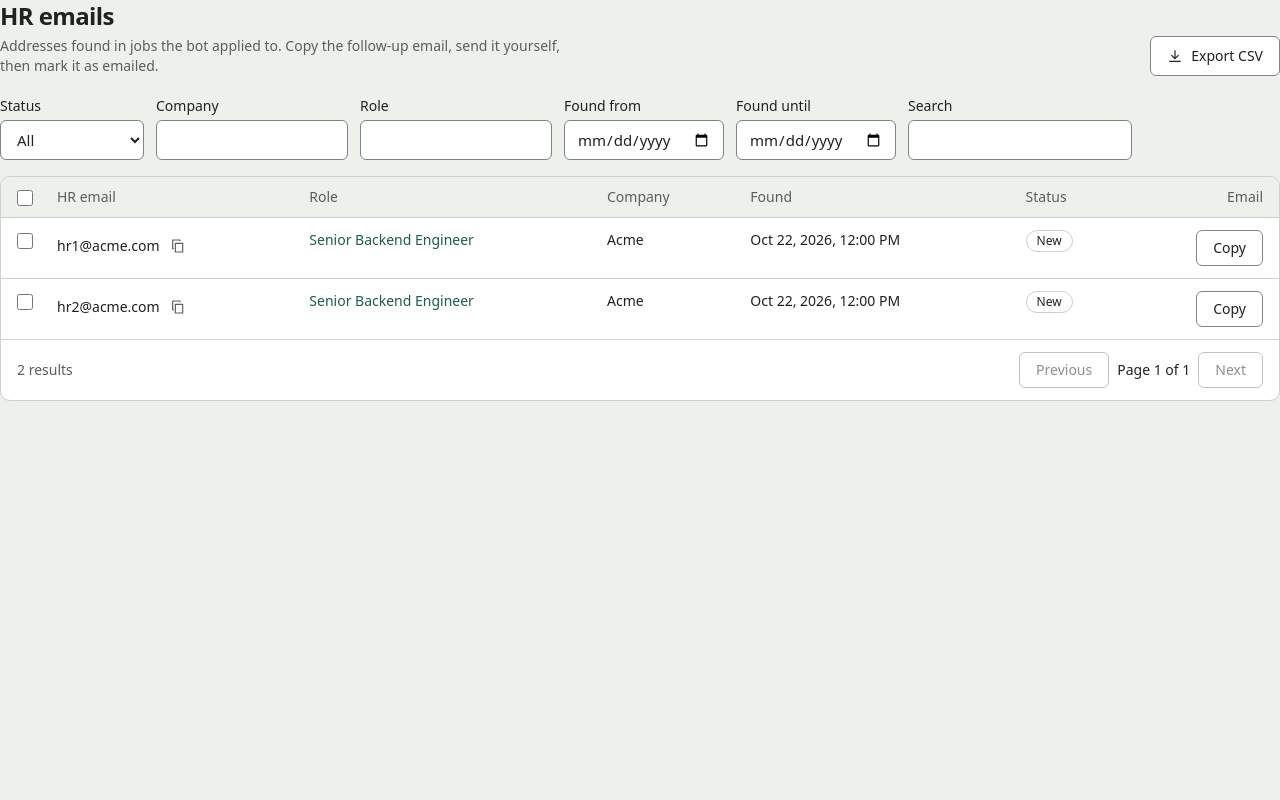
Scenario: select all on the page, then cancel the delete
Click the checkbox named "Select all on this page": coordinates (25, 198) [17,190,33,206]
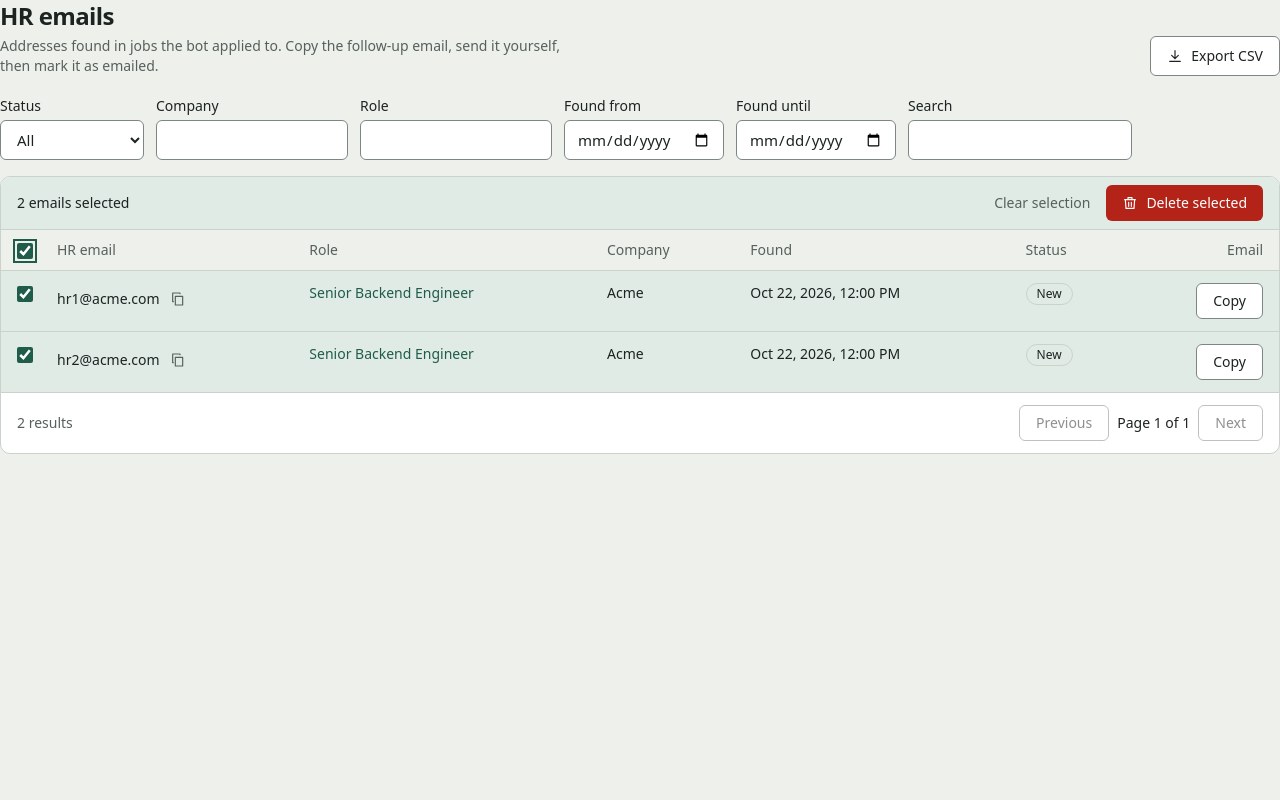
Expected: the element named "Selected rows" shows "2 emails selected", [1,177,1279,230]
Click the button "Delete selected": coordinates (1185, 203) [1106,185,1263,221]
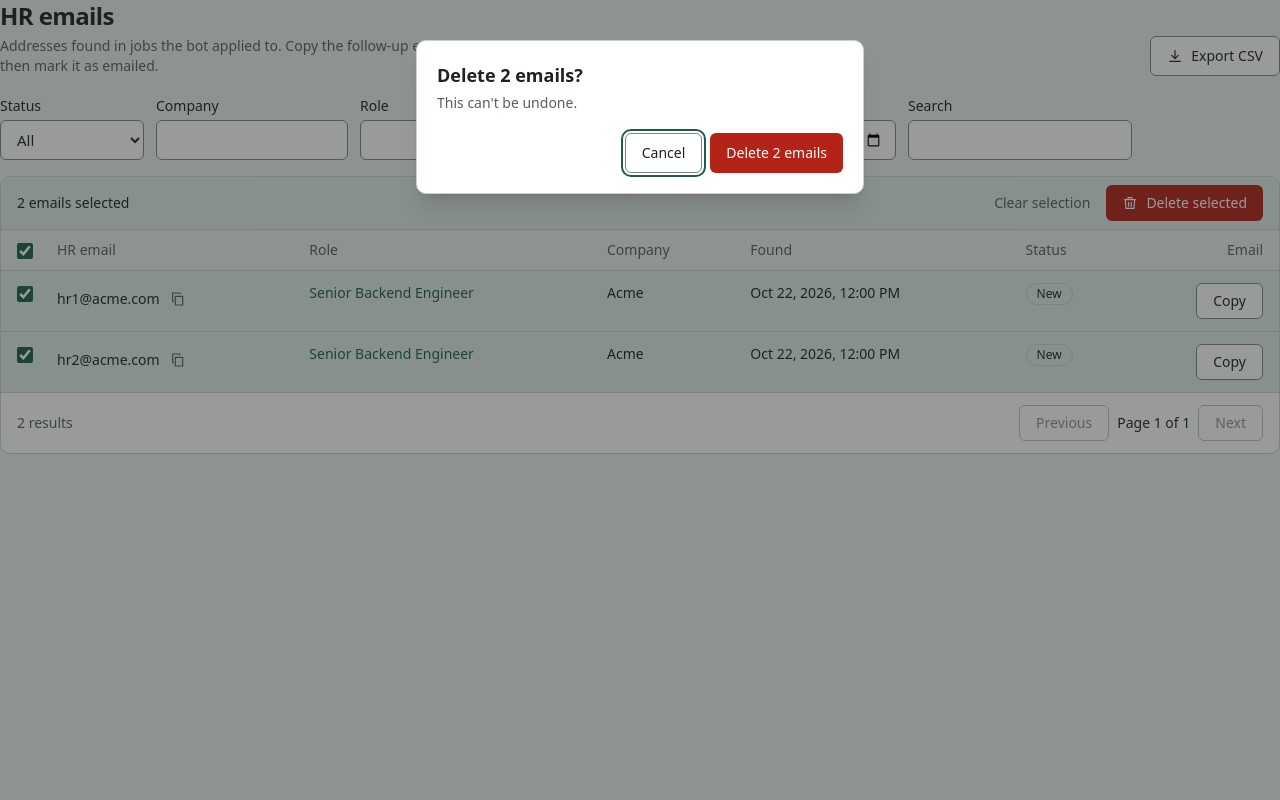
Click the button "Cancel": coordinates (664, 153) [625,133,702,173]
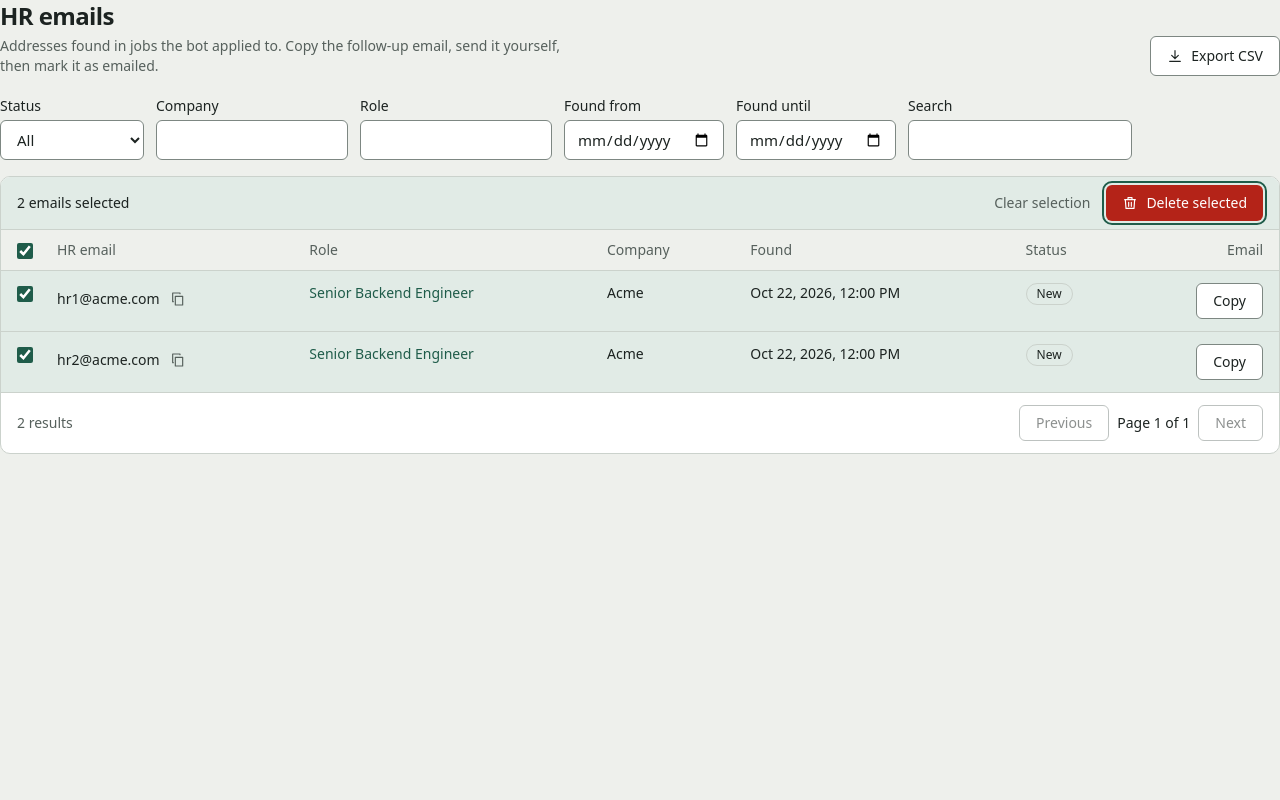
Expected: the checkbox named "Select hr2@acme.com" is checked, [17,347,33,363]
Expected: the dialog is gone
